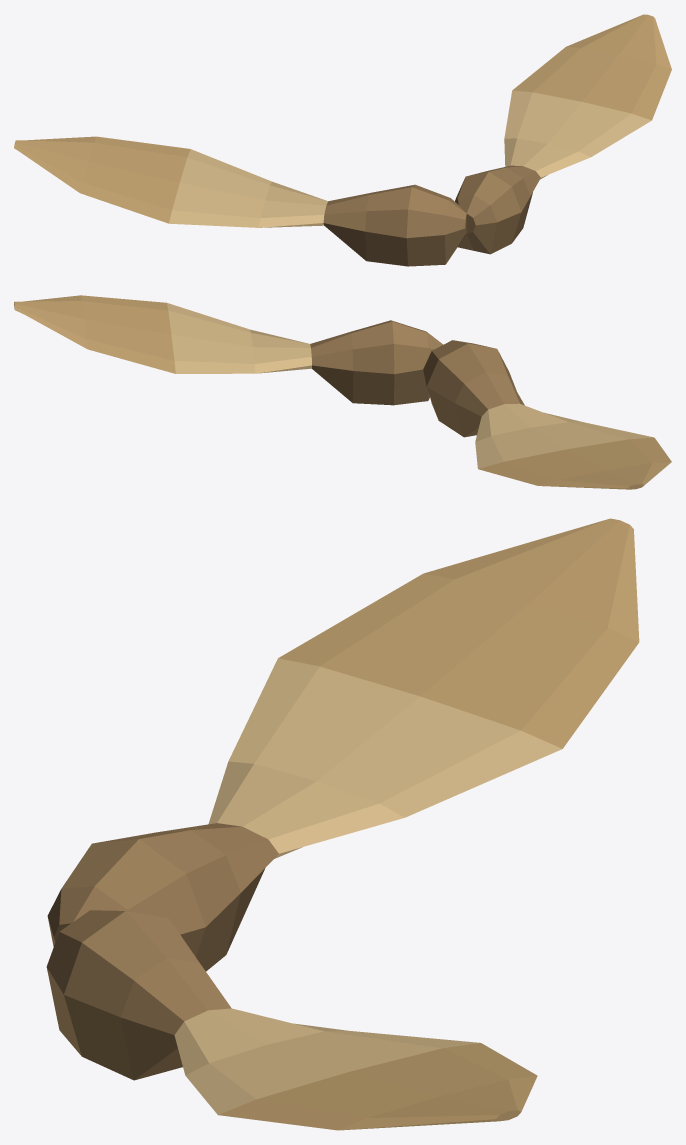
The picture shows the model from 3 angles, top to bottom: view 1: azimuth 30°, elevation 25°; view 2: azimuth 150°, elevation 25°; view 3: azimuth 270°, elevation 25°; orthographic projection. The views are drawn at different scales.
Parts seen in each view (by area): view 1: WholeSeedNucleusAndFiniteWing1, WholeSeedNucleusAndFiniteWing2; view 2: WholeSeedNucleusAndFiniteWing2, WholeSeedNucleusAndFiniteWing1; view 3: WholeSeedNucleusAndFiniteWing1, WholeSeedNucleusAndFiniteWing2.
Part boxes in pixels (box(x1,y1,x2,y2)): WholeSeedNucleusAndFiniteWing1: box(14, 136, 466, 266); WholeSeedNucleusAndFiniteWing2: box(455, 14, 671, 254); WholeSeedNucleusAndFiniteWing2: box(14, 295, 443, 405); WholeSeedNucleusAndFiniteWing1: box(423, 340, 671, 489); WholeSeedNucleusAndFiniteWing1: box(47, 518, 639, 971); WholeSeedNucleusAndFiniteWing2: box(46, 910, 537, 1130).
Size of the model in its own units: 0.1152 by 0.0164 by 0.0482.
